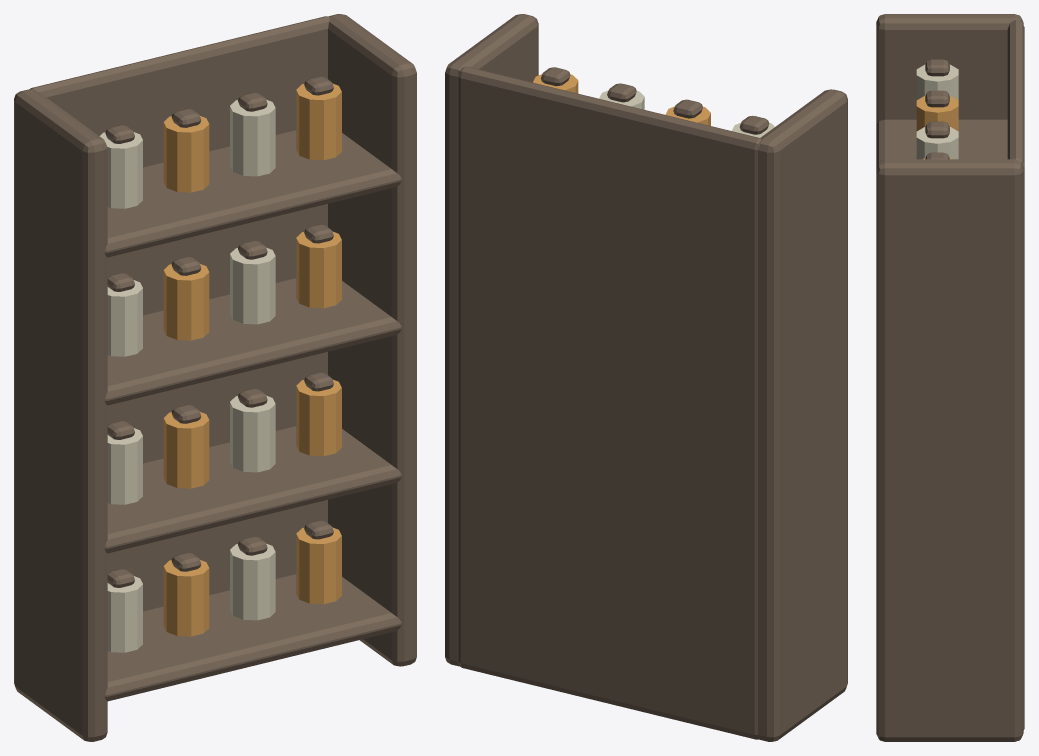
File: medicine_cabinet.glb
The picture shows the model from 3 angles, left to right: view 1: azimuth 30°, elevation 25°; view 2: azimuth 150°, elevation 25°; view 3: azimuth 270°, elevation 25°; orthographic projection. The views are drawn at different scales.
Parts seen in each view (by area): view 1: Body.071; view 2: Body.071; view 3: Body.071.
Boxes of the visible parts, x1,y1,x2,y2 form: Body.071: (14, 14, 416, 741); Body.071: (445, 14, 847, 741); Body.071: (876, 14, 1024, 741).
Bounding box in the file's own units: 0.755 × 1.3 × 0.3025.
